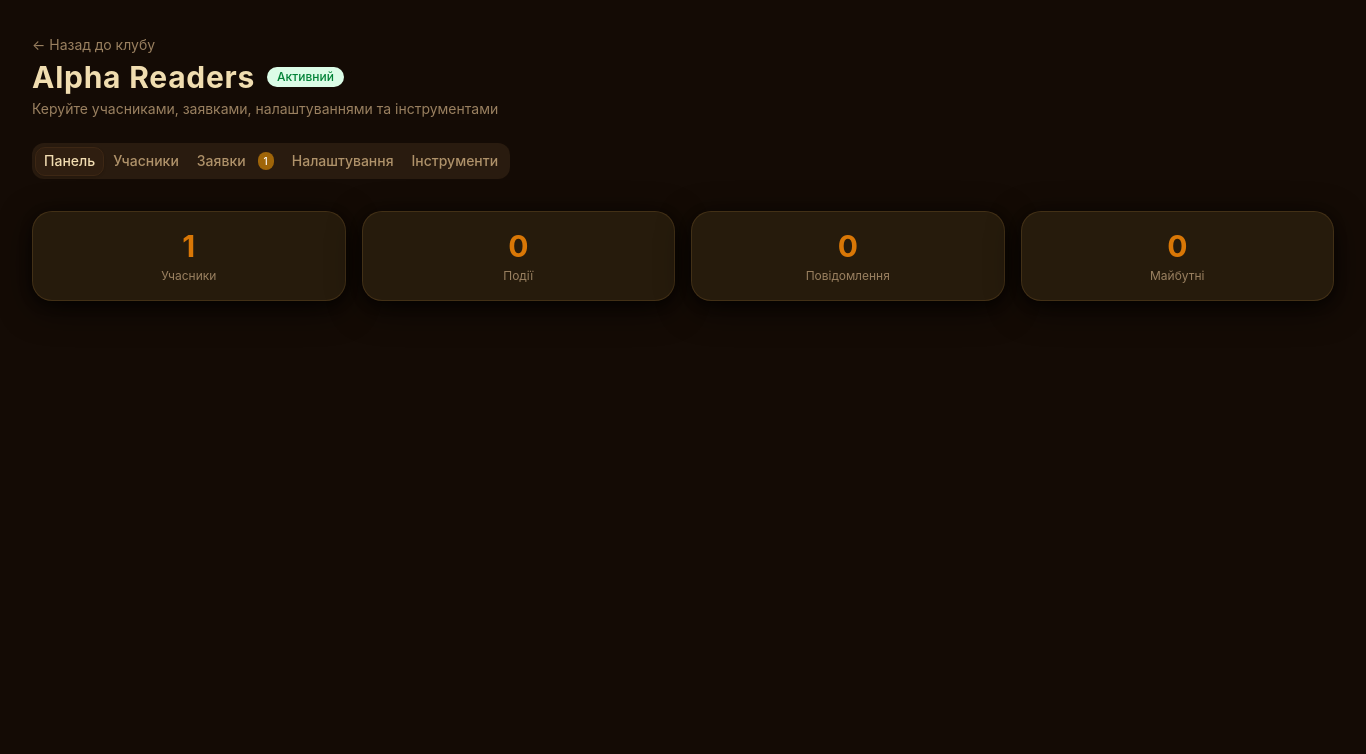
/clubs/:id/manage page › renders for an organizer with every message it needs in the shipped namespaces
Expected: the heading "Alpha Readers" is shown, [32,59,255,95]
Click the tab "Учасники" at (146, 161), box [104,146,188,176]
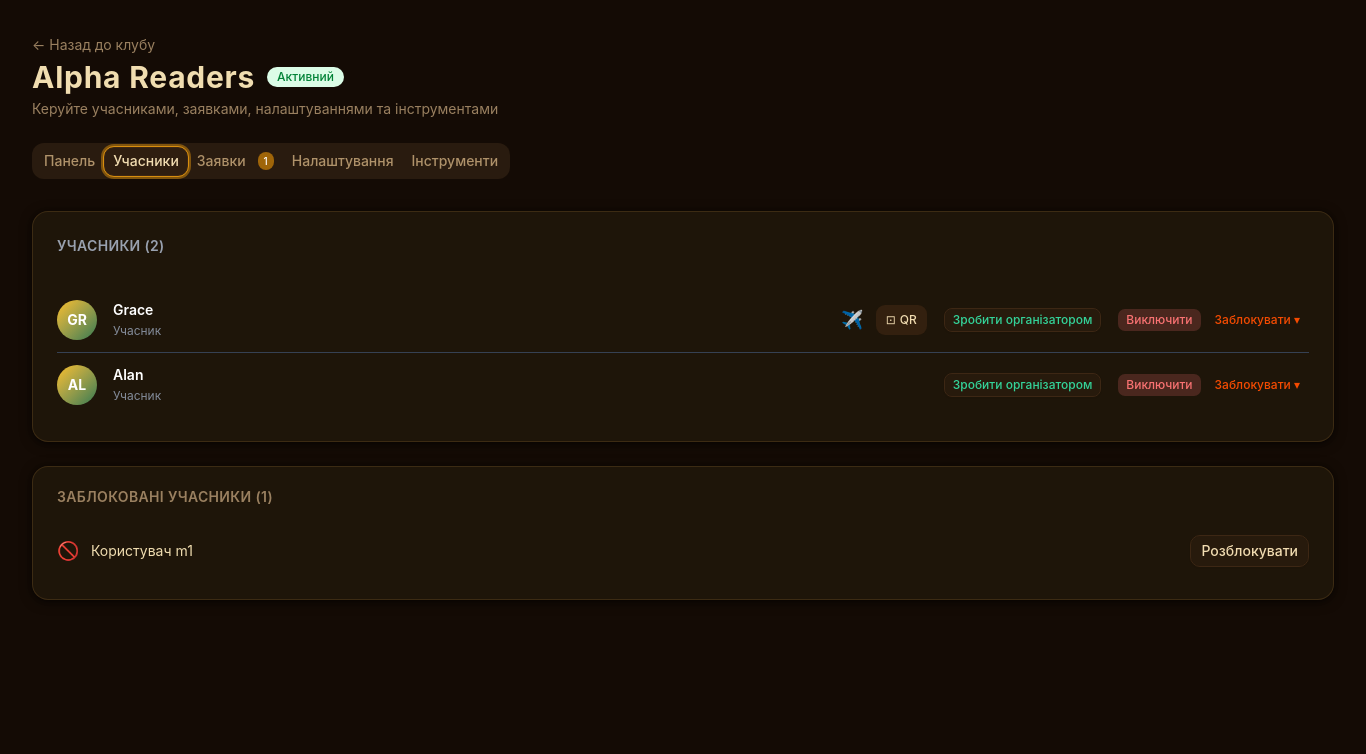
Result: the panel is shown at [32,211,1334,600]
Click the tab "Заявки 1" at (235, 161), box [188,146,283,176]
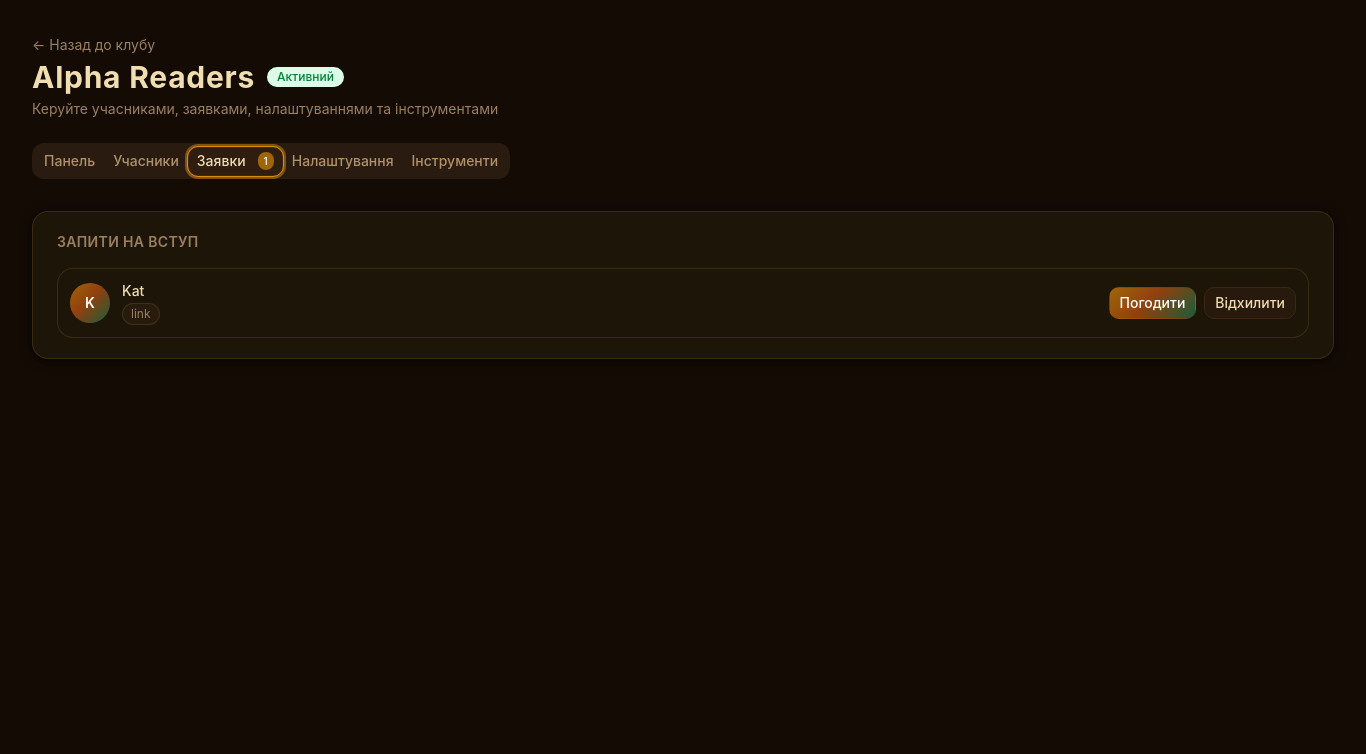
Result: the panel is shown at [32,211,1334,359]
Click the tab "Налаштування" at (343, 161), box [283,146,403,176]
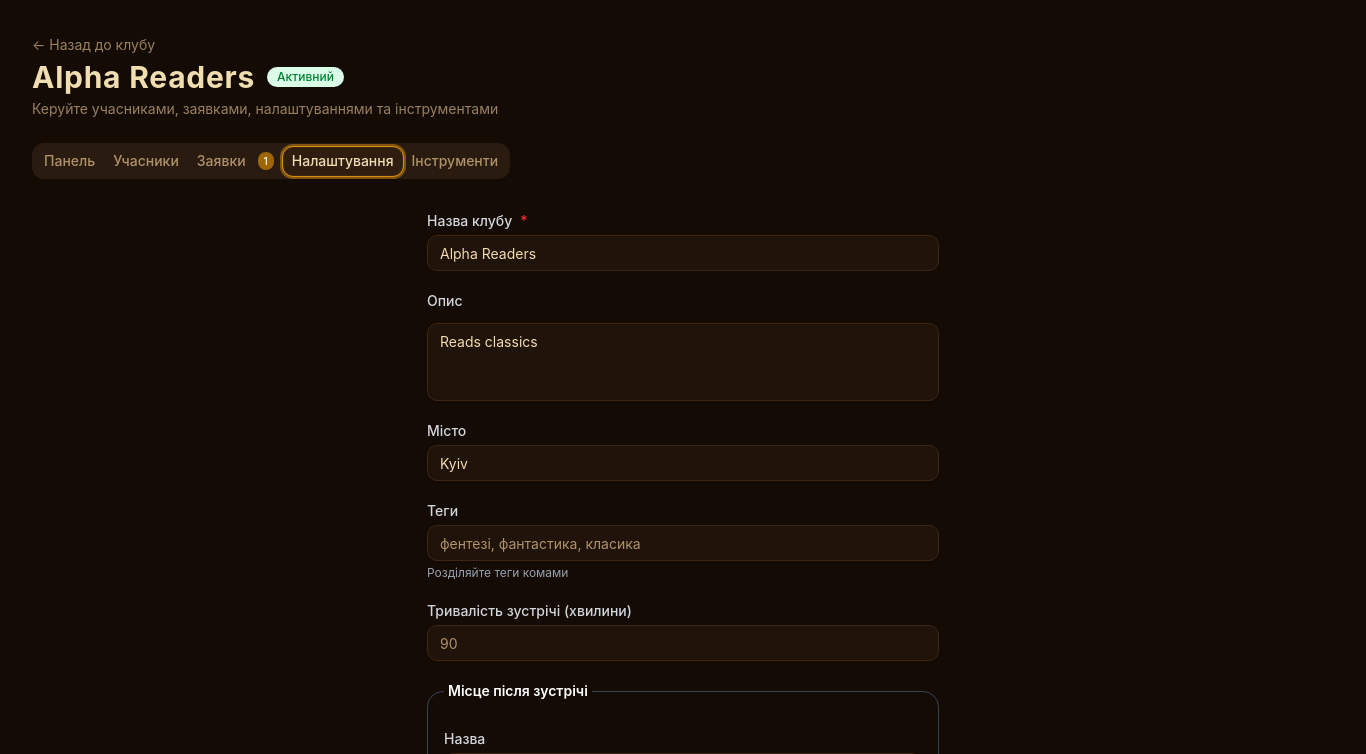
Click the tab "Інструменти" at (455, 161), box [402,146,507,176]
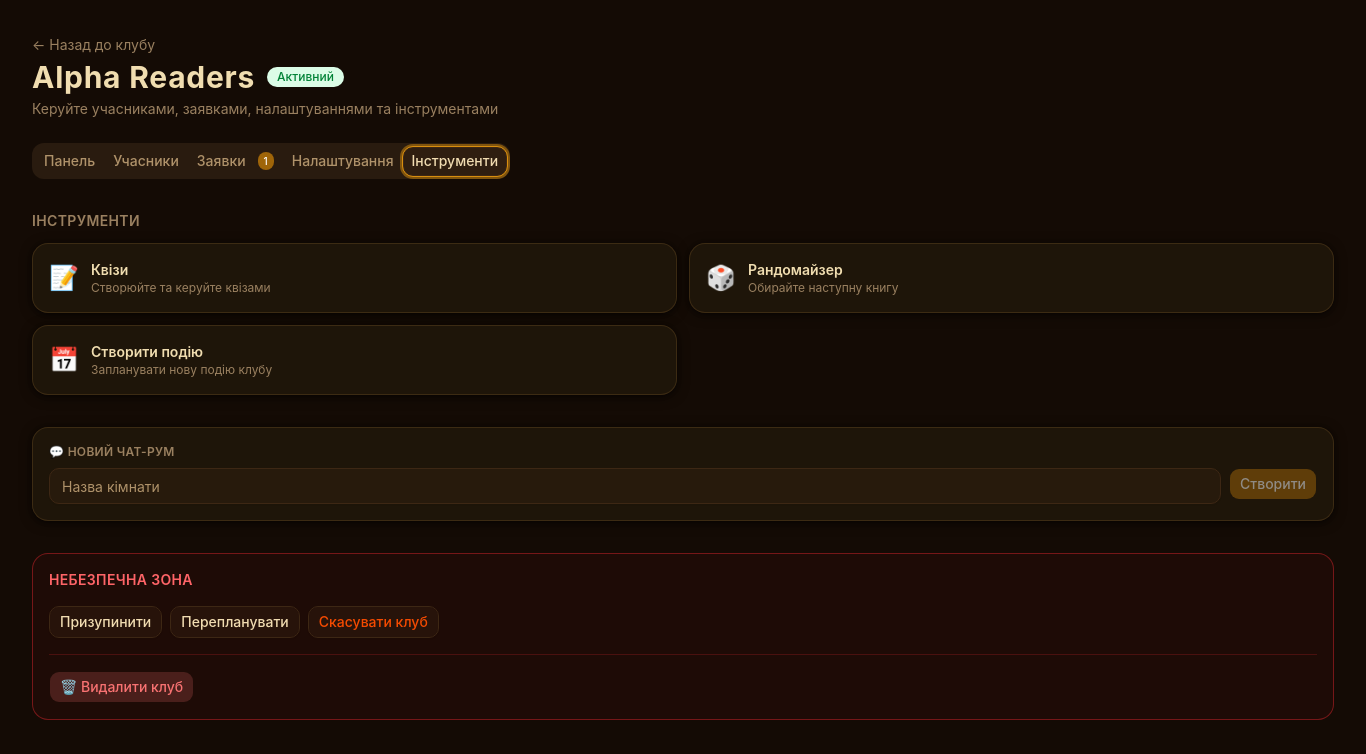
Result: the panel is shown
Result: the heading "💬 Новий чат-рум" is shown at [49,444,175,459]
